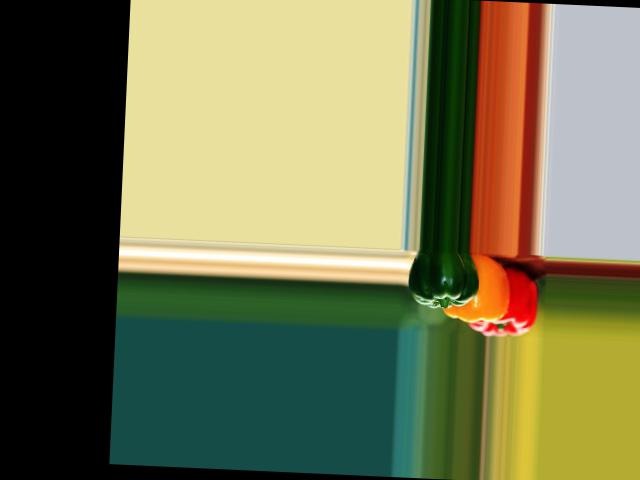bell_pepper: (467, 255, 538, 337)
